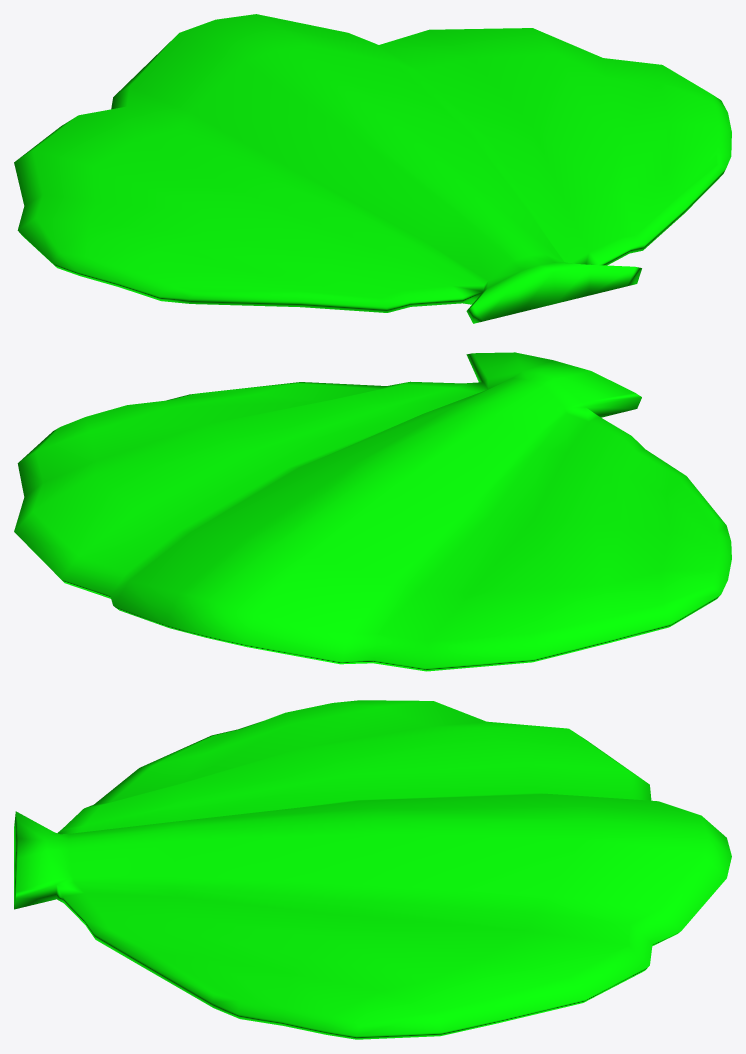
Rendered from Shell_1.fbx.
3 renders of one model, top to bottom at view 1: azimuth 30°, elevation 25°; view 2: azimuth 150°, elevation 25°; view 3: azimuth 270°, elevation 25°, orthographic.
Parts seen in each view (by area): view 1: Shell_1; view 2: Shell_1; view 3: Shell_1.
Boxes of the visible parts, left/top/right/bottom form: Shell_1: left=14, top=14, right=731, bottom=323; Shell_1: left=14, top=352, right=731, bottom=671; Shell_1: left=14, top=700, right=731, bottom=1039.
Size of the model in its own units: 30.45 by 2.8 by 27.8.
